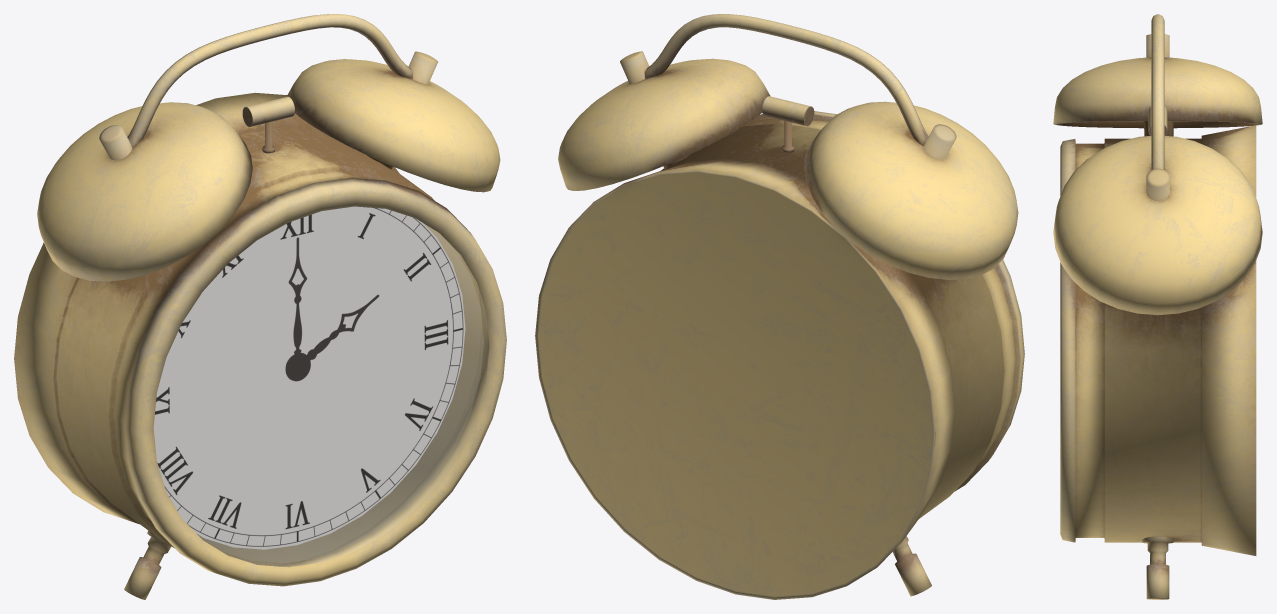
3 renders of one model, left to right at view 1: azimuth 30°, elevation 25°; view 2: azimuth 150°, elevation 25°; view 3: azimuth 270°, elevation 25°, orthographic. The views are drawn at different scales.
Parts seen in each view (by area): view 1: SM_OldAlrmClock; view 2: SM_OldAlrmClock; view 3: SM_OldAlrmClock.
Boxes of the visible parts, box(x1,y1,x2,y2) form: SM_OldAlrmClock: box(14, 14, 506, 599); SM_OldAlrmClock: box(535, 14, 1024, 599); SM_OldAlrmClock: box(1053, 14, 1262, 599).
Size of the model in its own units: 0.1702 by 0.2045 by 0.0773.
Materials: 3 (2 with a texture image).
